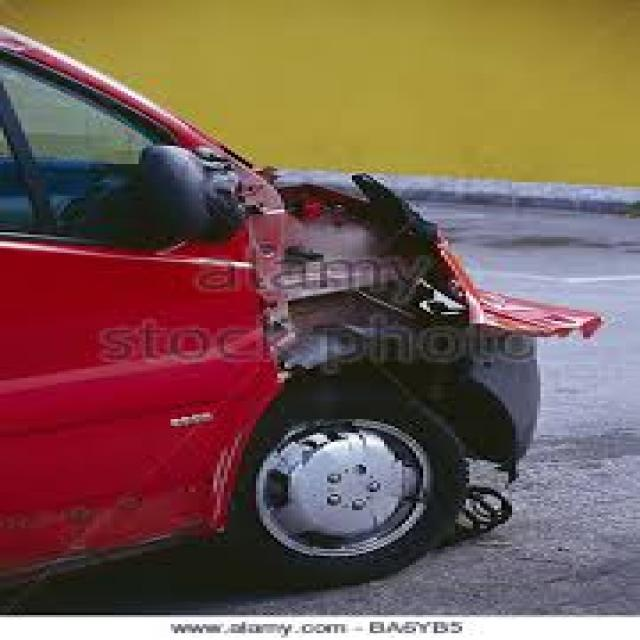minor: (163, 119, 626, 365)
